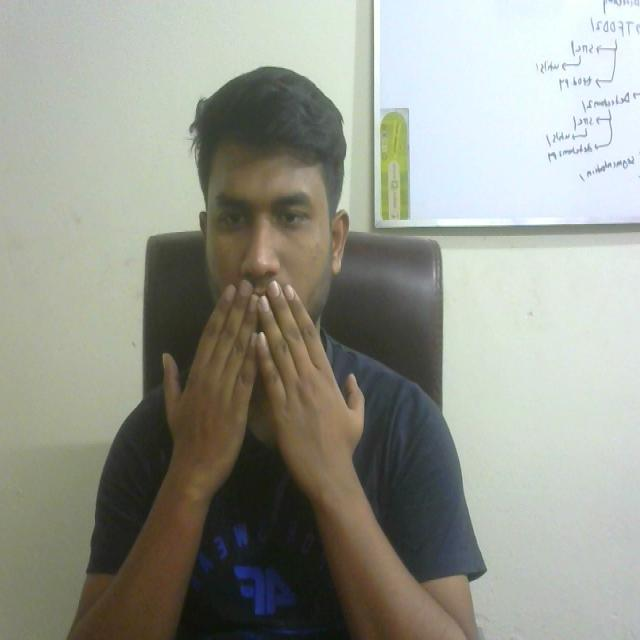Hello: (137, 272, 370, 487)
